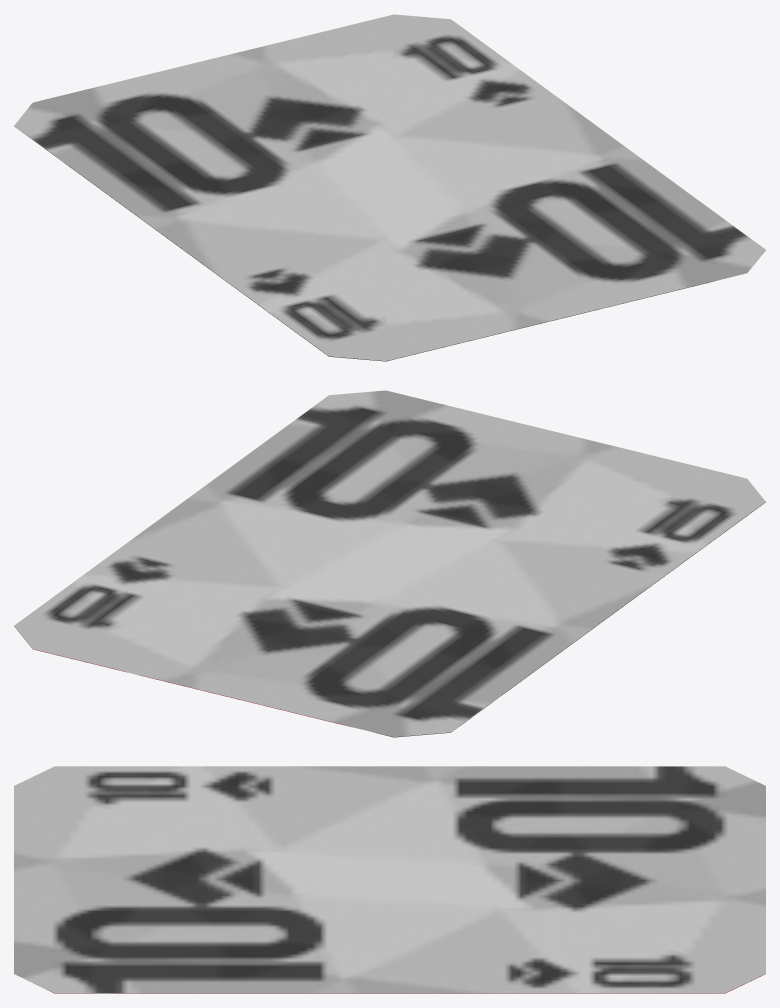
The model's file is PlayingCards_10Spades.fbx.
The picture shows the model from 3 angles, top to bottom: view 1: azimuth 30°, elevation 25°; view 2: azimuth 150°, elevation 25°; view 3: azimuth 270°, elevation 25°; orthographic projection. The views are drawn at different scales.
Parts seen in each view (by area): view 1: PlayingCards_10Spades; view 2: PlayingCards_10Spades; view 3: PlayingCards_10Spades.
Part boxes in pixels (x1,y1,x2,y2): PlayingCards_10Spades: [14, 14, 765, 361]; PlayingCards_10Spades: [14, 390, 765, 737]; PlayingCards_10Spades: [14, 766, 765, 993].
Size of the model in its own units: 6.35 by 0.00499 by 8.89.
